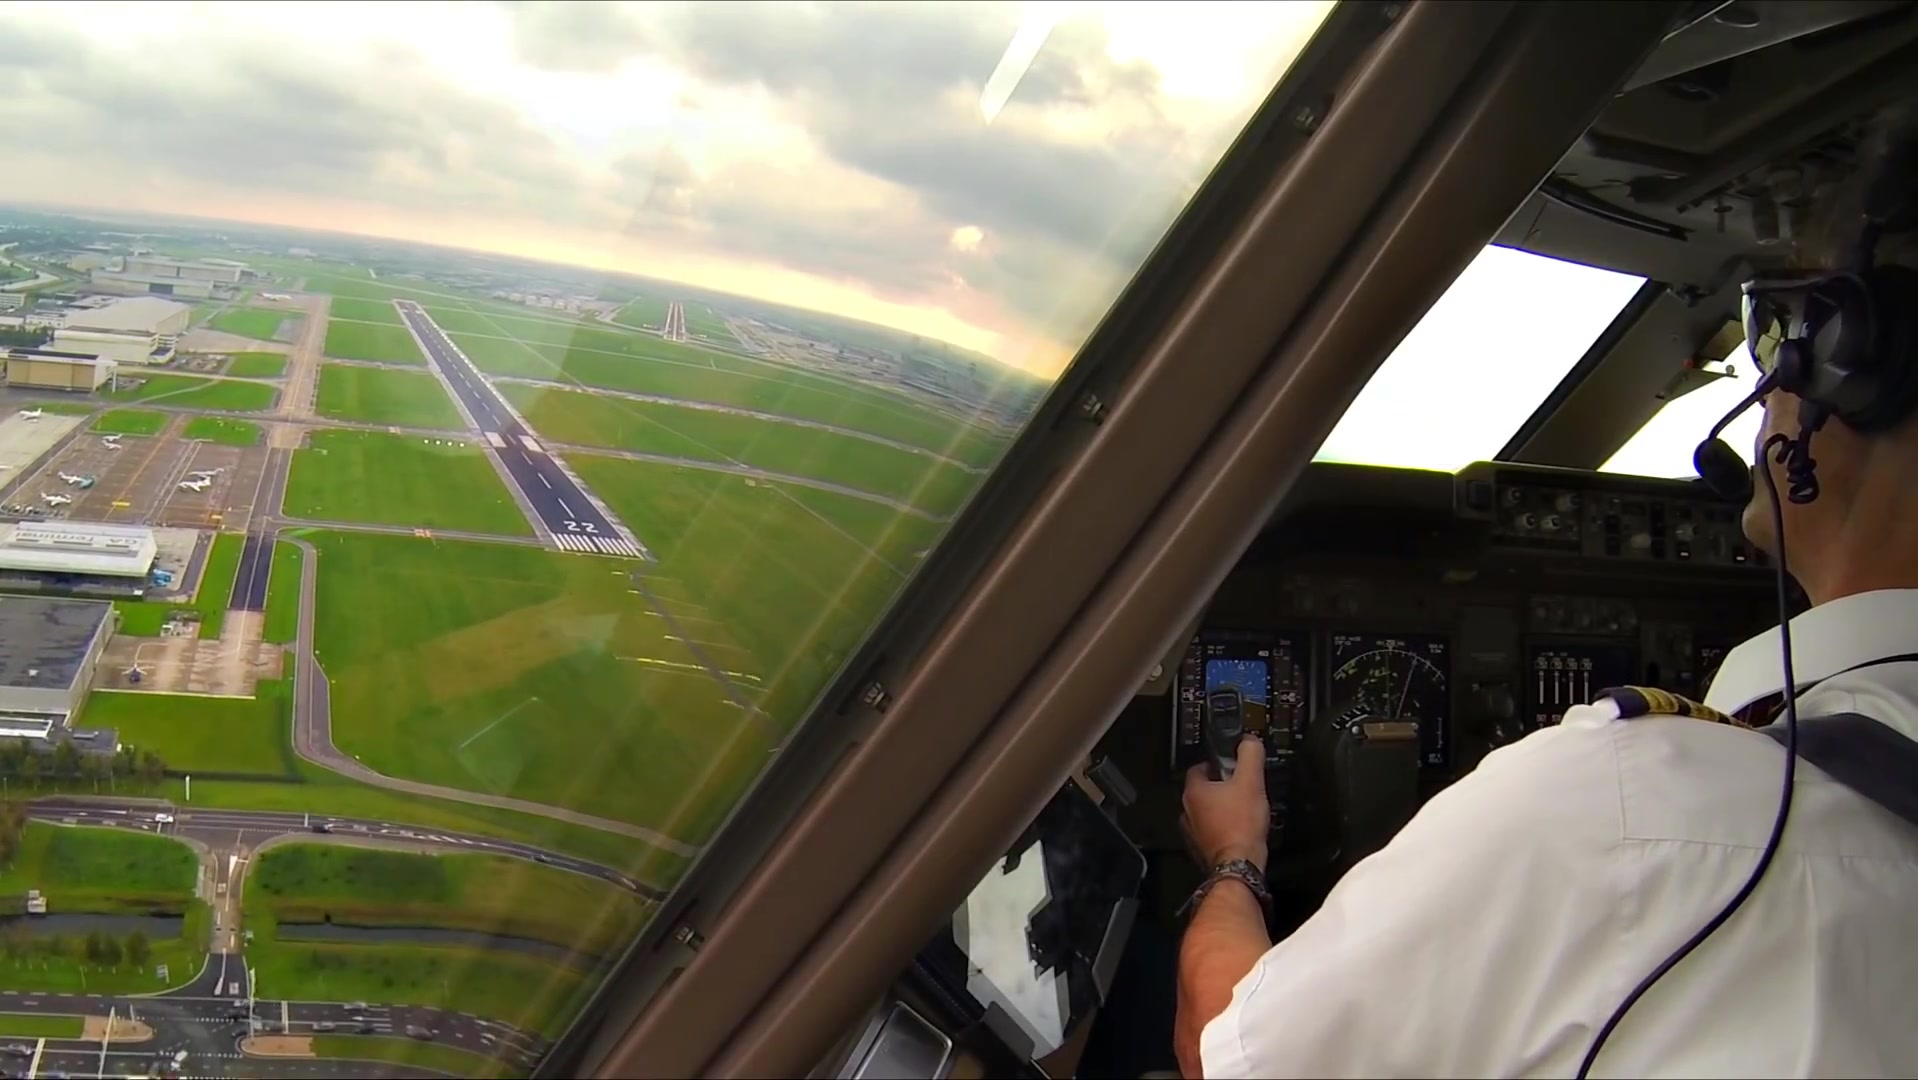entrance: (548, 532, 635, 554)
runway: (390, 298, 645, 561), (652, 303, 693, 346)
